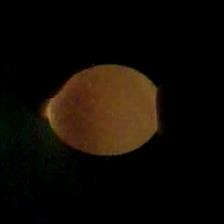infertile: (42, 59, 163, 158)
